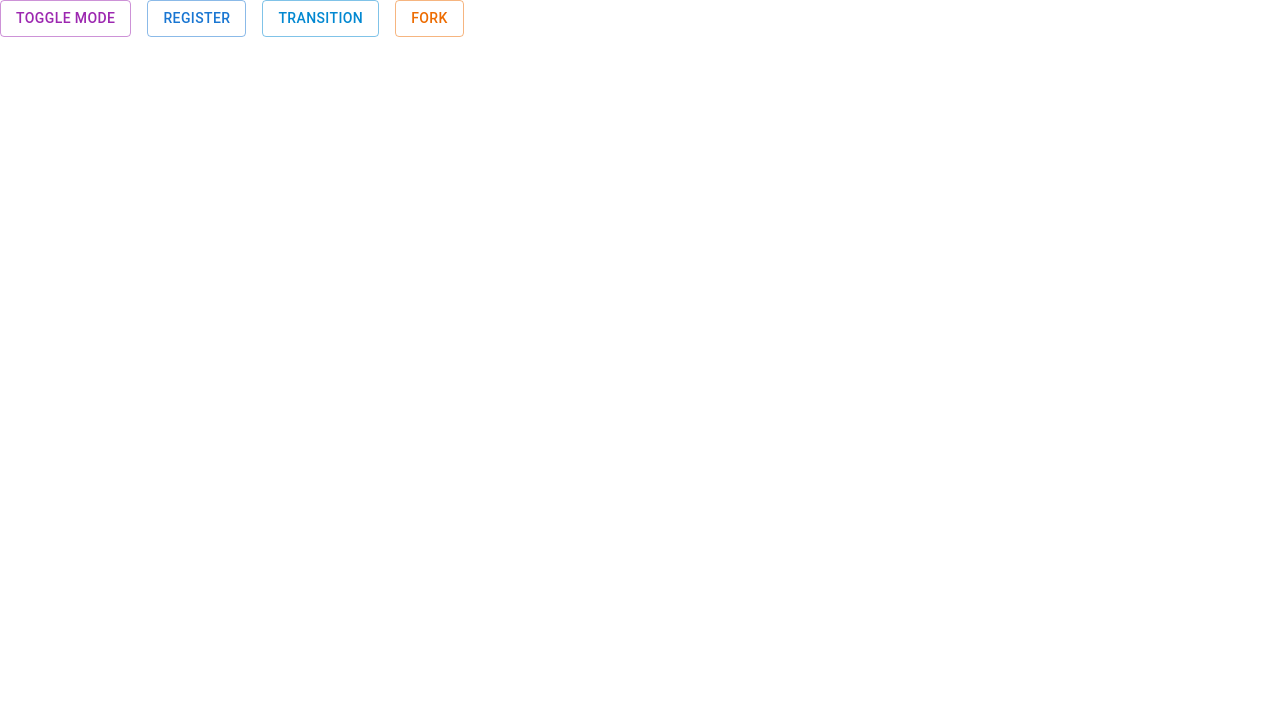
Scenario: CapabilityActions › opens register dialog when register button is clicked
Click the button "Register": (197, 18) [147, 0, 246, 36]
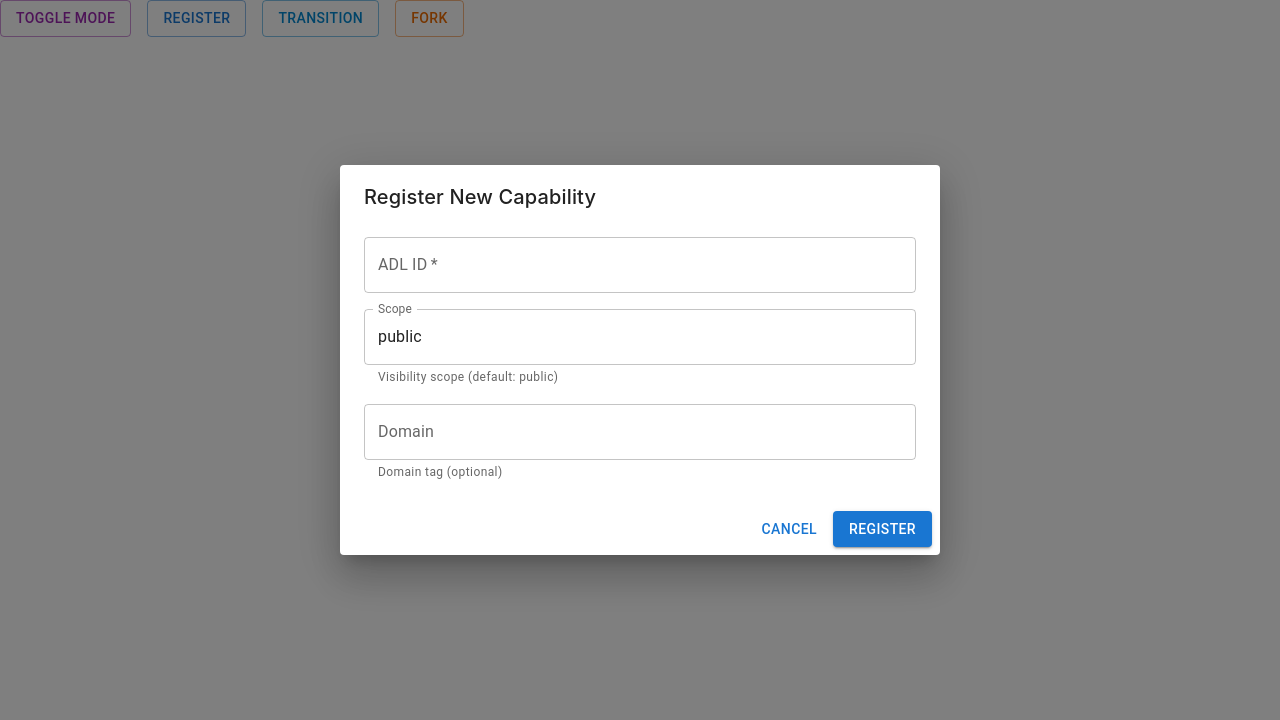
Check: the element with test id "register-dialog" is shown
